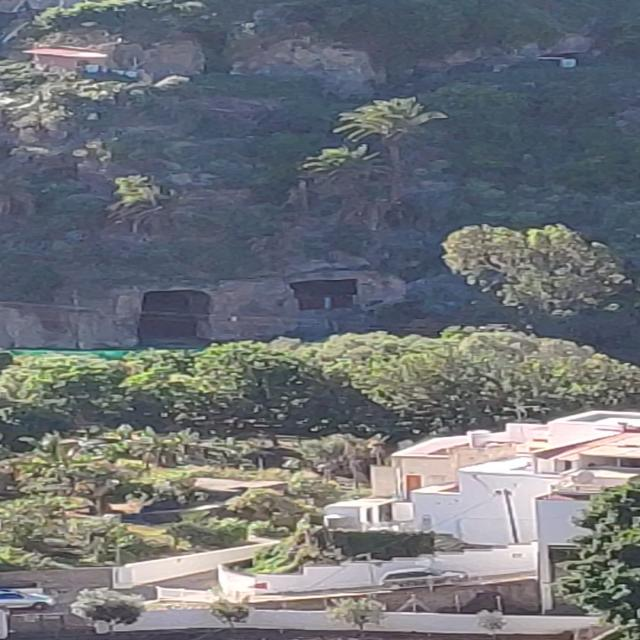Palm-Trees: (349, 93, 439, 207), (307, 140, 387, 220)
